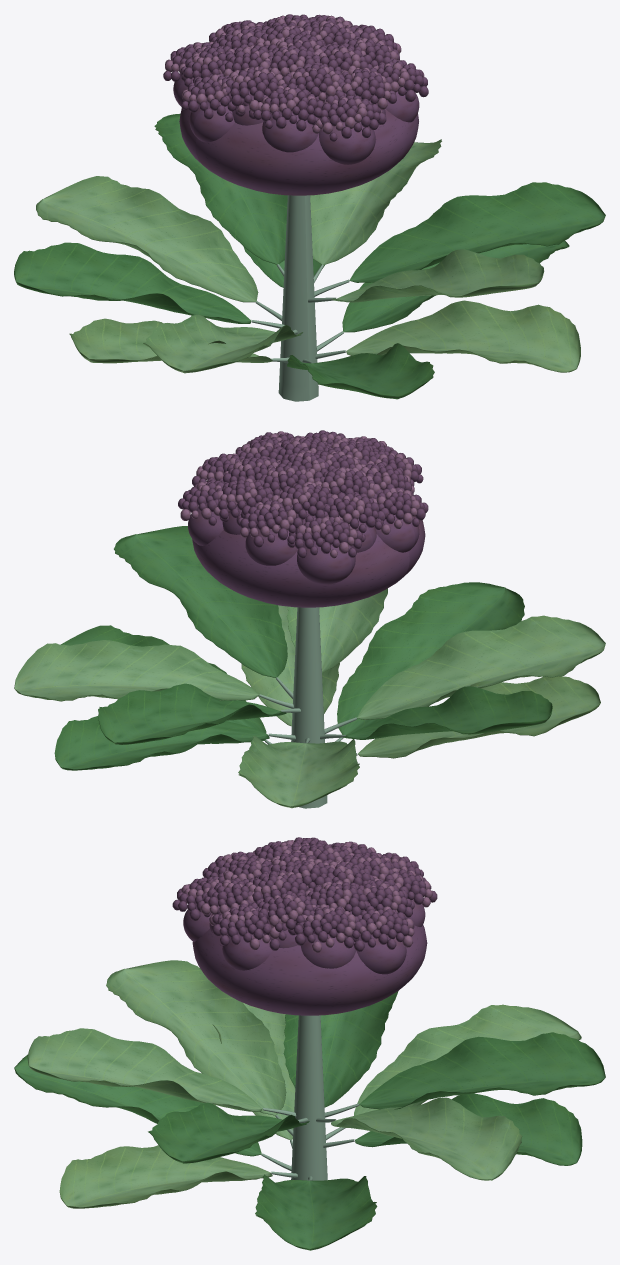
Rendered from broccoli-winter-rudolph.glb.
3 renders of one model, top to bottom at view 1: azimuth 30°, elevation 25°; view 2: azimuth 150°, elevation 25°; view 3: azimuth 270°, elevation 25°, orthographic. The views are drawn at different scales.
Visible parts, largest first — view 1: Broccoli · Winter Rudolph; view 2: Broccoli · Winter Rudolph; view 3: Broccoli · Winter Rudolph.
Boxes of the visible parts, left/top/right/bottom form: Broccoli · Winter Rudolph: left=14, top=14, right=605, bottom=401; Broccoli · Winter Rudolph: left=14, top=430, right=605, bottom=808; Broccoli · Winter Rudolph: left=14, top=837, right=605, bottom=1250.
Size of the model in its own units: 0.6636 by 0.4226 by 0.6558.
4 materials, 3 textured.
